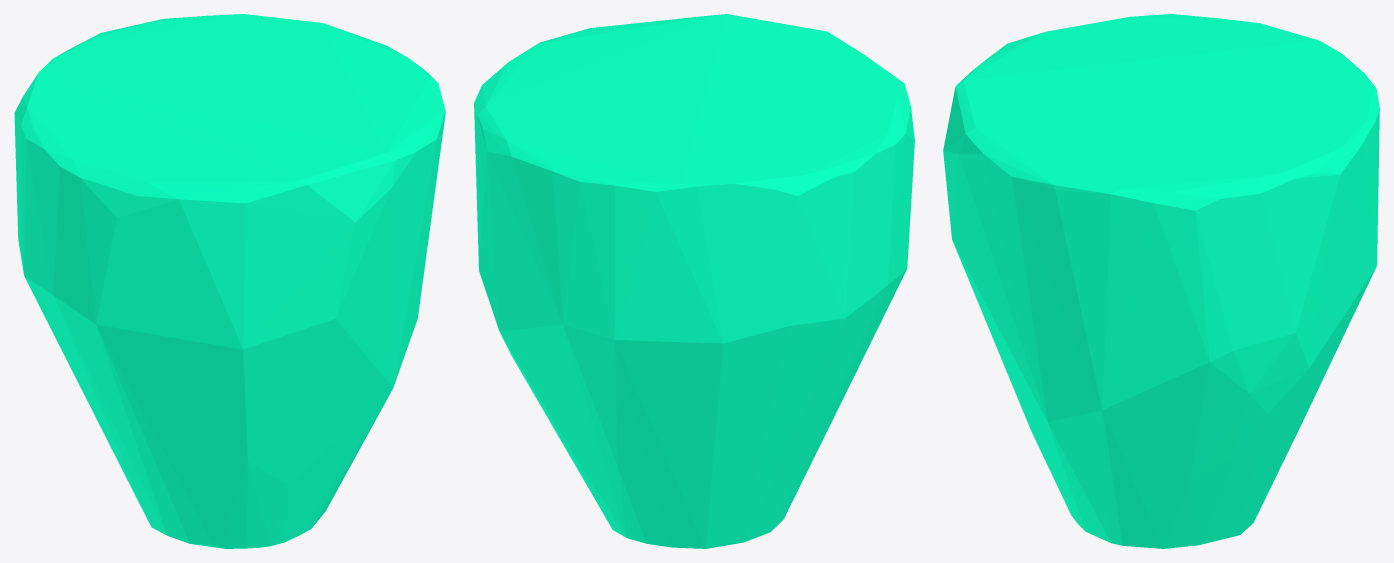
File: skyphos-fill0.glb
3 views of the same model, side by side, from view 1: azimuth 30°, elevation 25°; view 2: azimuth 150°, elevation 25°; view 3: azimuth 270°, elevation 25° (orthographic).
Bounding box in the file's own units: 0.2266 × 0.2423 × 0.2257.
